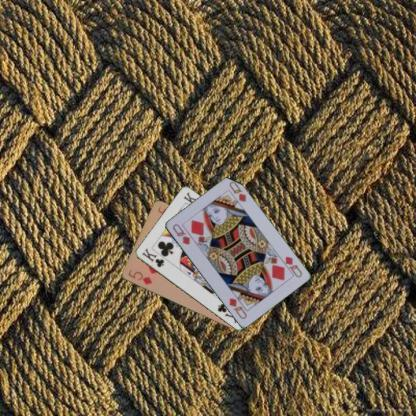5d: (125, 267, 153, 286)
Kc: (139, 246, 165, 268)
Qd: (278, 254, 304, 278), (170, 221, 191, 246)
